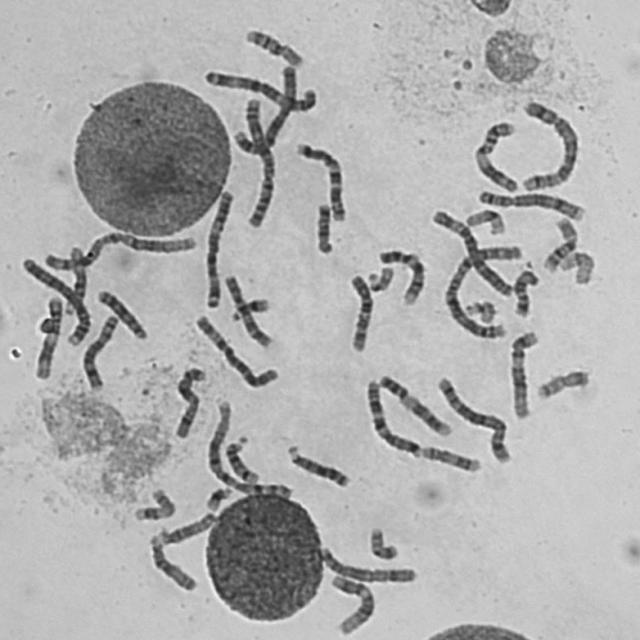A1: (201, 398, 294, 501), (42, 226, 200, 274)
A2: (441, 241, 526, 342), (244, 95, 280, 229)
A3: (201, 64, 319, 116), (201, 188, 238, 311)
B4: (21, 255, 94, 348), (231, 62, 298, 157)
B5: (435, 374, 514, 468), (521, 98, 582, 194)
C10: (221, 273, 274, 348), (350, 273, 376, 355)
C11: (472, 120, 520, 194), (30, 294, 64, 384)
C12: (326, 572, 377, 637), (509, 328, 545, 420)
C6: (431, 206, 516, 298), (194, 314, 281, 391)
C7: (290, 141, 350, 224), (365, 378, 422, 460)
C8: (477, 188, 590, 222), (80, 313, 120, 393)
C9: (378, 375, 454, 439), (377, 248, 428, 306)
D13: (285, 441, 352, 491), (94, 287, 151, 343)
D14: (223, 432, 263, 485), (63, 244, 89, 317)
D15: (147, 535, 199, 596), (160, 510, 219, 547)
E16: (243, 27, 305, 68), (541, 214, 579, 275)
E17: (421, 444, 483, 476), (130, 487, 177, 523)
E18: (511, 266, 541, 322), (314, 200, 337, 257)
F19: (557, 250, 597, 286), (463, 208, 508, 236)
F20: (534, 366, 600, 404), (365, 526, 403, 564)
G21: (230, 296, 271, 322), (204, 483, 233, 513)
G22: (462, 298, 498, 325), (366, 266, 396, 294)
X: (319, 545, 422, 586), (173, 365, 207, 441)
